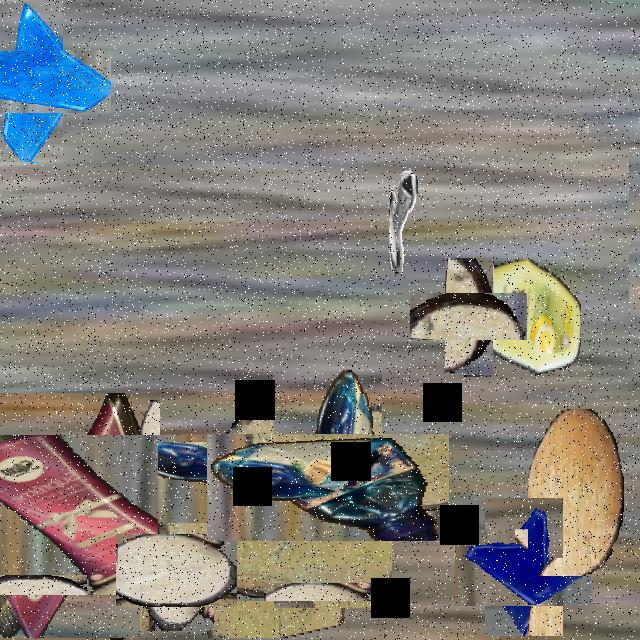glass: (470, 513, 578, 621), (0, 26, 87, 137), (629, 151, 640, 311)
metal: (389, 169, 451, 279)
plastic: (0, 414, 181, 616), (240, 400, 416, 574), (468, 259, 580, 377)
wood: (176, 422, 374, 620), (528, 409, 624, 576), (128, 522, 226, 619), (428, 275, 510, 358)
